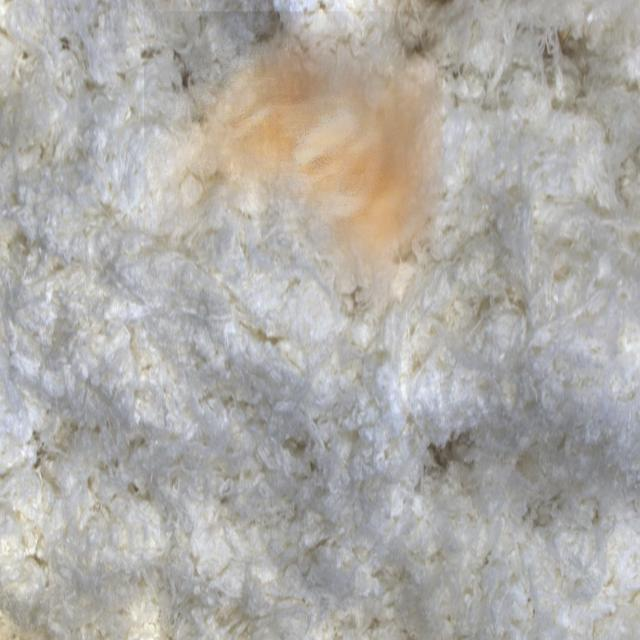dust: (144, 11, 443, 314)
